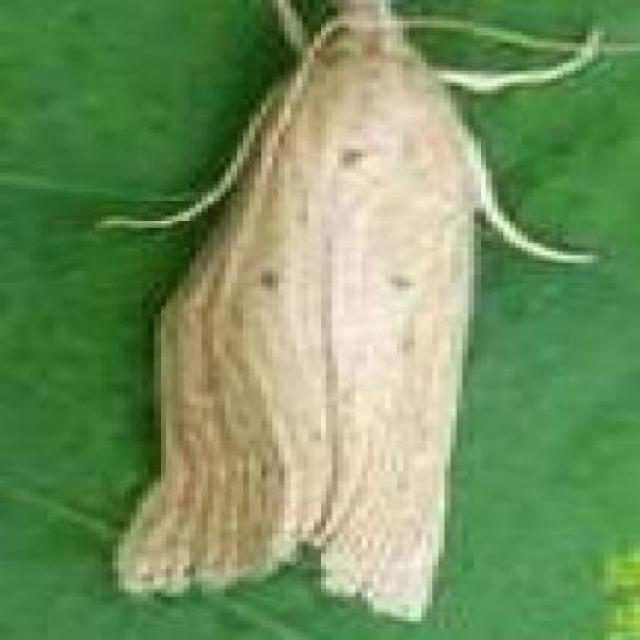stem-borer: (80, 0, 612, 631)
